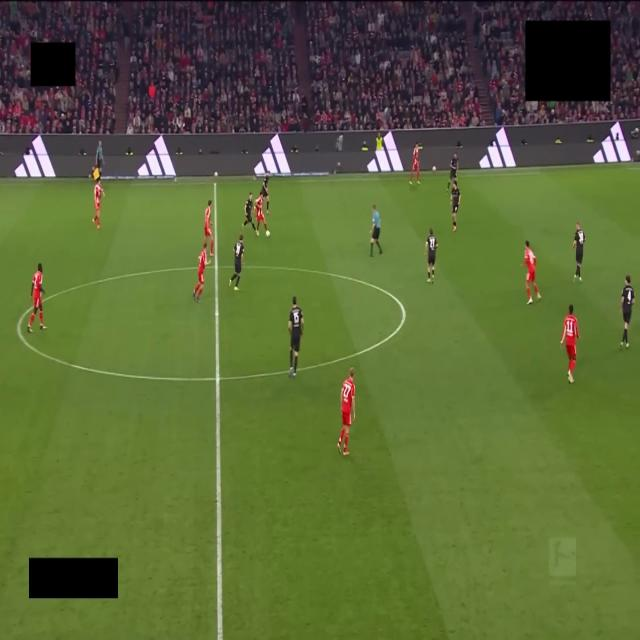ball: (265, 231, 270, 237)
player: (337, 368, 355, 455), (561, 304, 579, 383), (288, 296, 304, 378), (27, 264, 46, 332), (522, 241, 541, 304), (193, 241, 210, 302), (620, 276, 634, 348), (229, 234, 243, 291), (573, 223, 584, 281), (425, 229, 437, 282), (243, 192, 257, 232), (93, 178, 103, 229), (204, 200, 213, 255), (255, 195, 267, 234), (451, 180, 460, 231), (447, 153, 458, 191), (260, 174, 270, 214), (410, 144, 419, 184)
referee: (370, 204, 382, 257)
